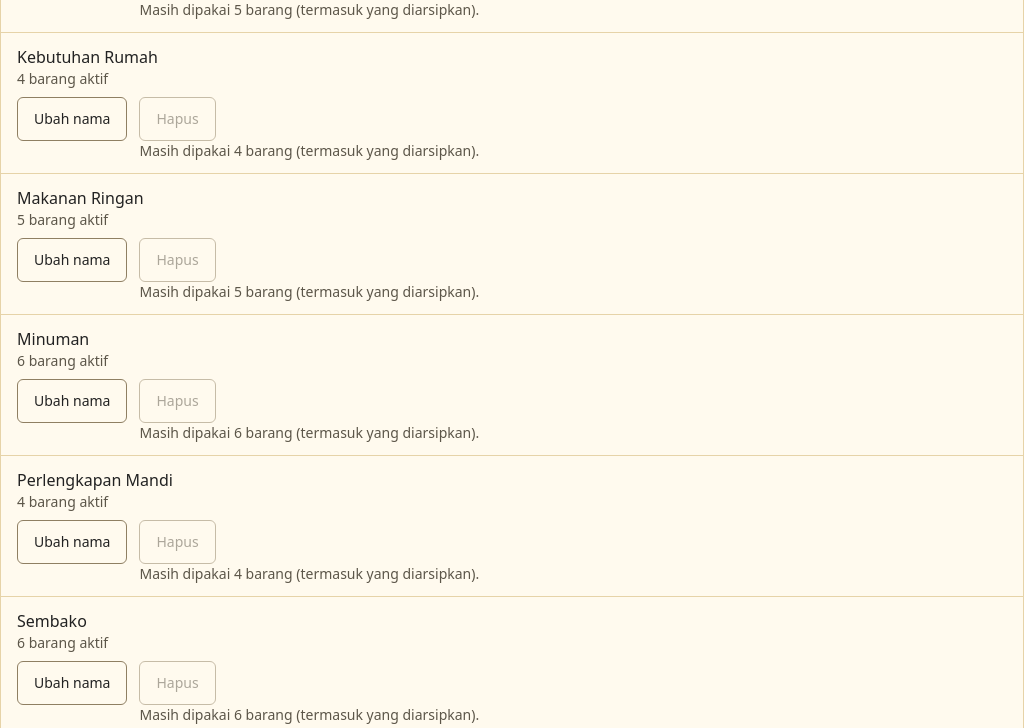
Test case: CategoriesPage › mengganti nama dengan nama kategori lain menampilkan error; Batal mengembalikan fokus
(page scrolled)
Click the button "Ubah nama" below "Minuman" at (72, 401), box [17,379,128,423]
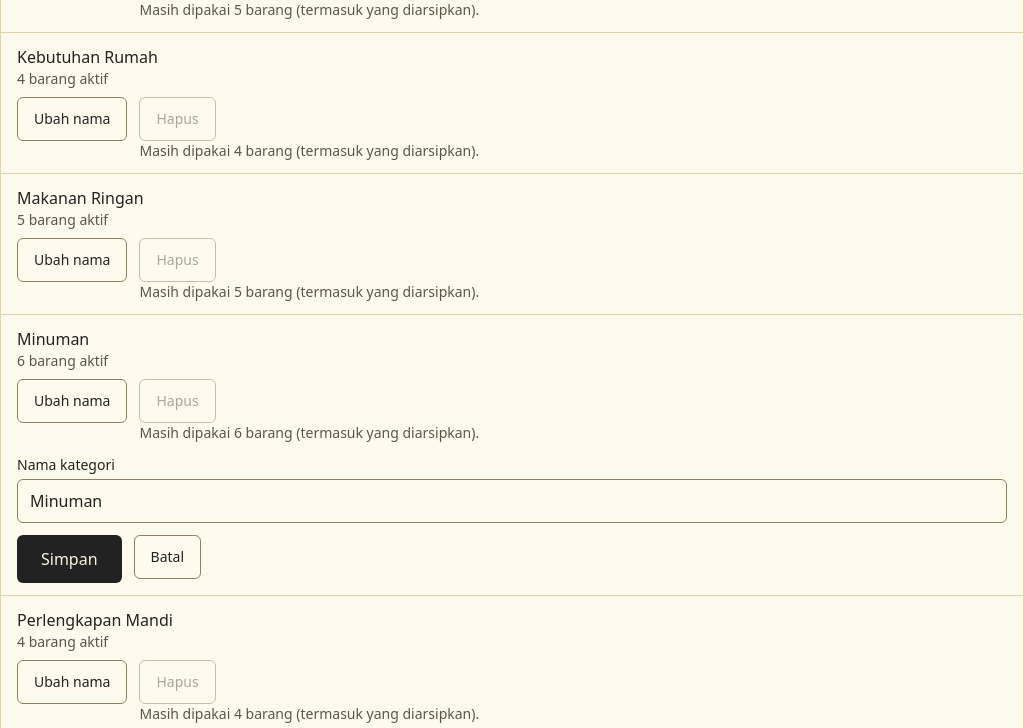
Replace the text in the field labelled "Nama kategori" with "sembako" at (512, 500), box [17,478,1007,522]
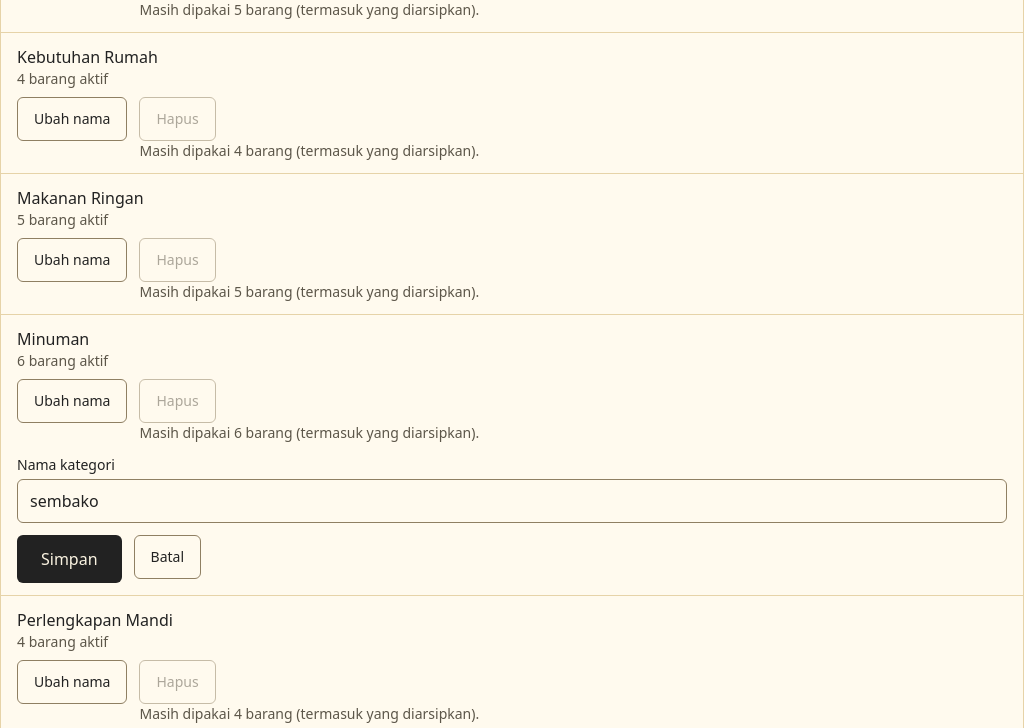
Click the button "Simpan" at (69, 558), box [17,534,122,582]
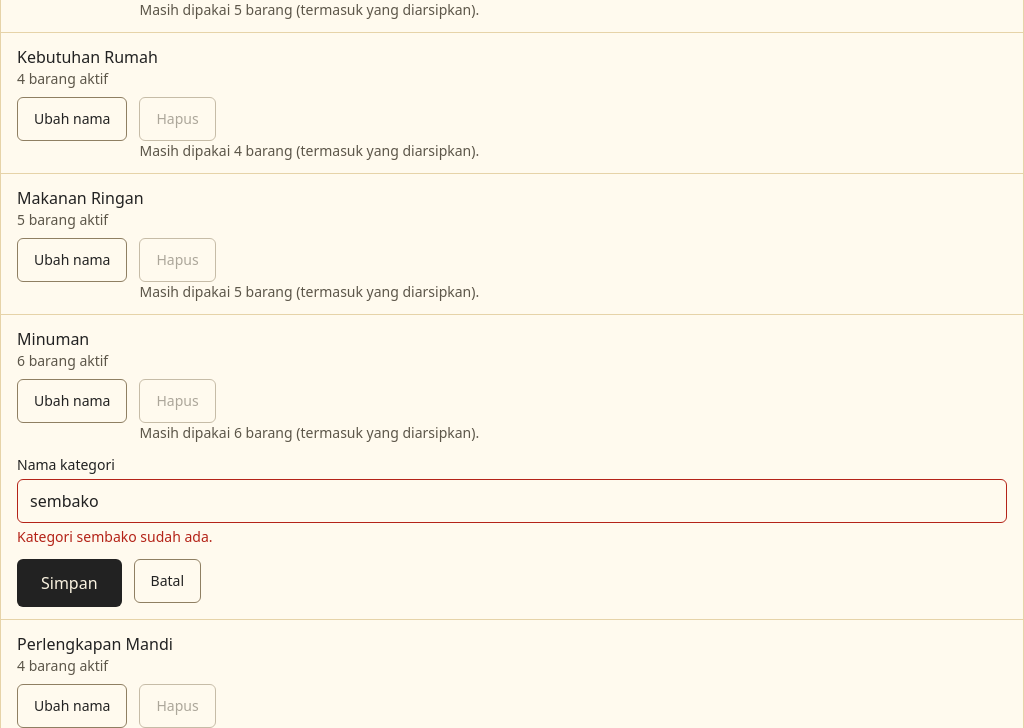
Check: the text "Kategori sembako sudah ada." is shown, box [17,526,212,546]
Click the button "Batal" at (167, 580), box [134,558,201,602]
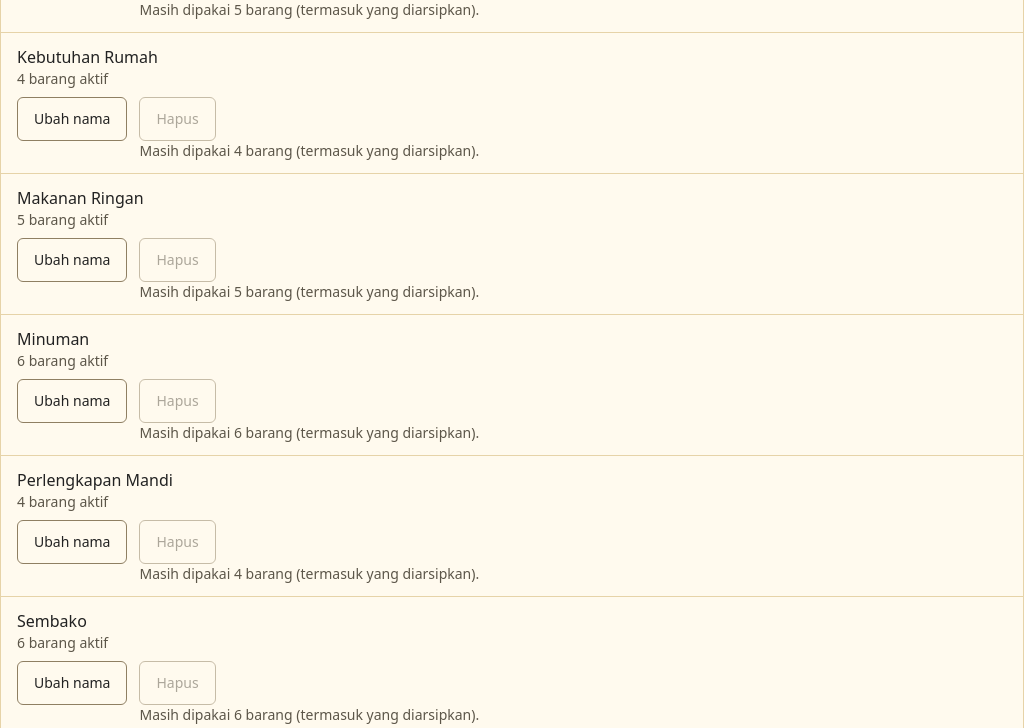
Check: the label labelled "Nama kategori" is gone
